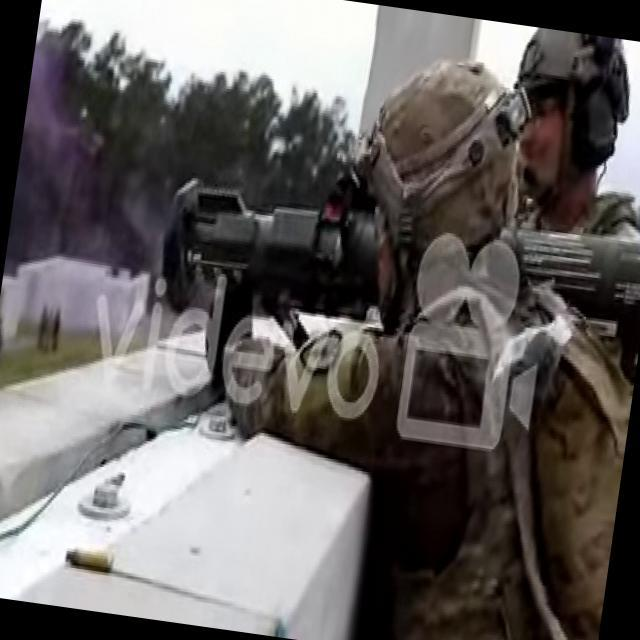rocket: (153, 165, 640, 381)
